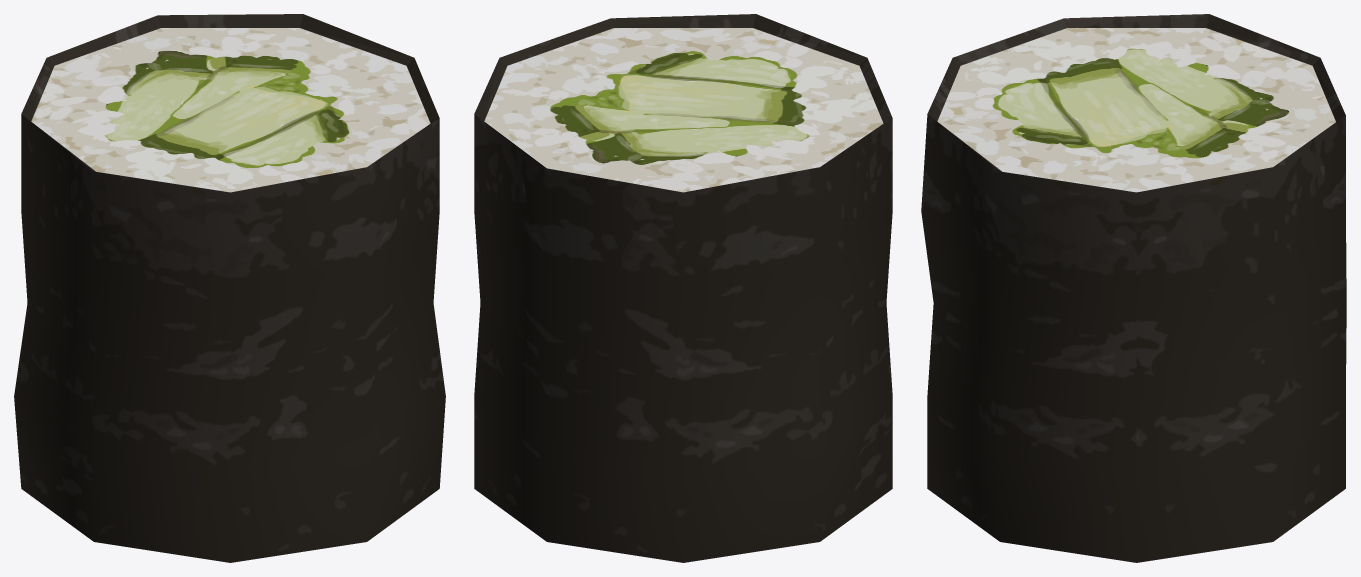
File: maki_2.fbx
The picture shows the model from 3 angles, left to right: view 1: azimuth 30°, elevation 25°; view 2: azimuth 150°, elevation 25°; view 3: azimuth 270°, elevation 25°; orthographic projection.
Visible parts, largest first — view 1: Cylinder001; view 2: Cylinder001; view 3: Cylinder001.
Part boxes in pixels (bbox=[...]): Cylinder001: bbox=[14, 14, 445, 562]; Cylinder001: bbox=[474, 14, 892, 562]; Cylinder001: bbox=[921, 14, 1346, 562].
Size of the model in its own units: 7.31 by 7.22 by 7.42.
